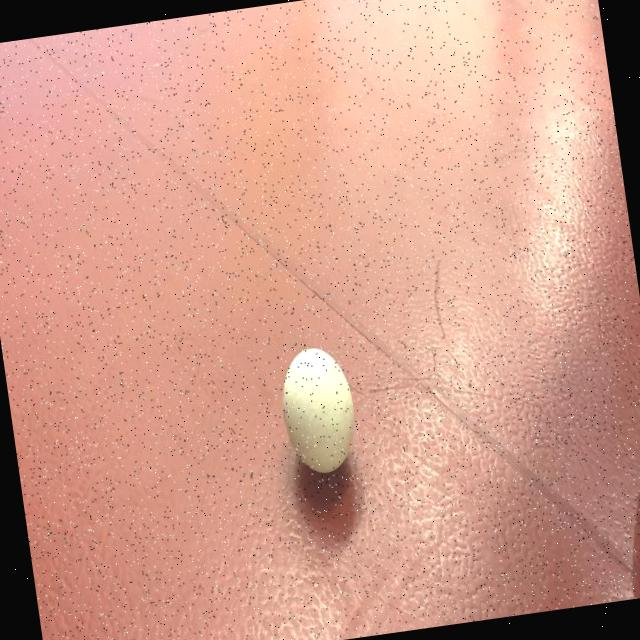ping-pong-ball: (272, 340, 364, 479)
